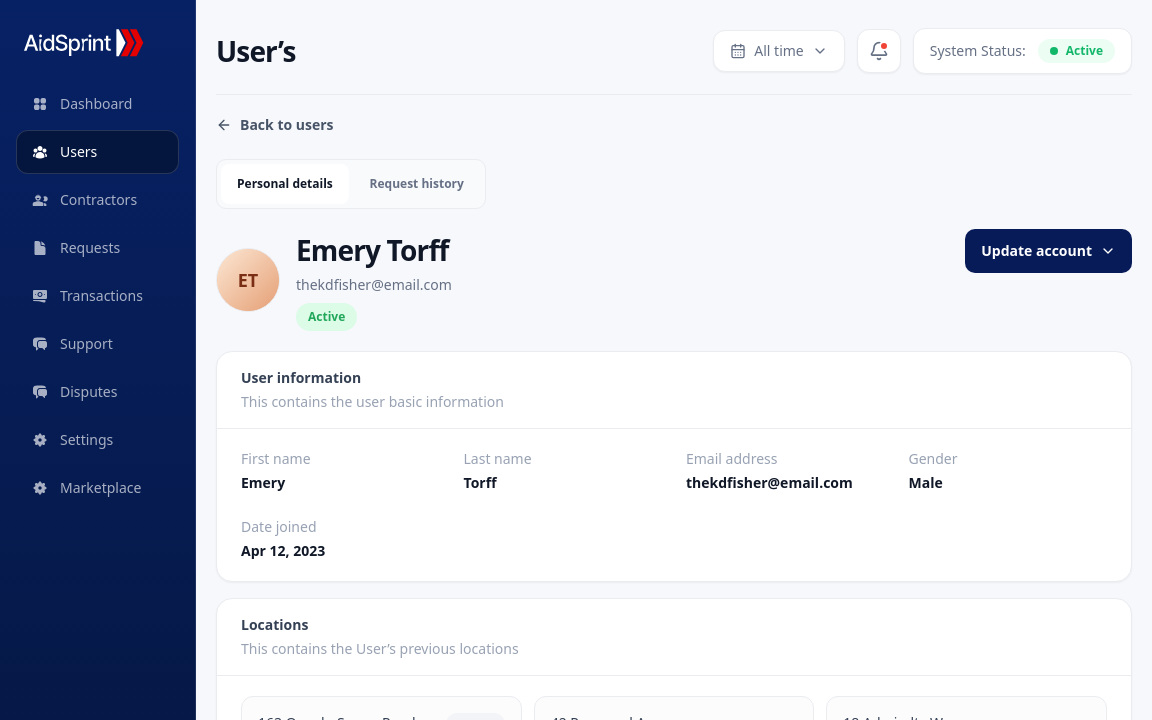
Test: UserDetailsPage › updates the request status without a reload
Click the tab "Request history".
click(417, 184)  # box x1=353 y1=164 x2=481 y2=204
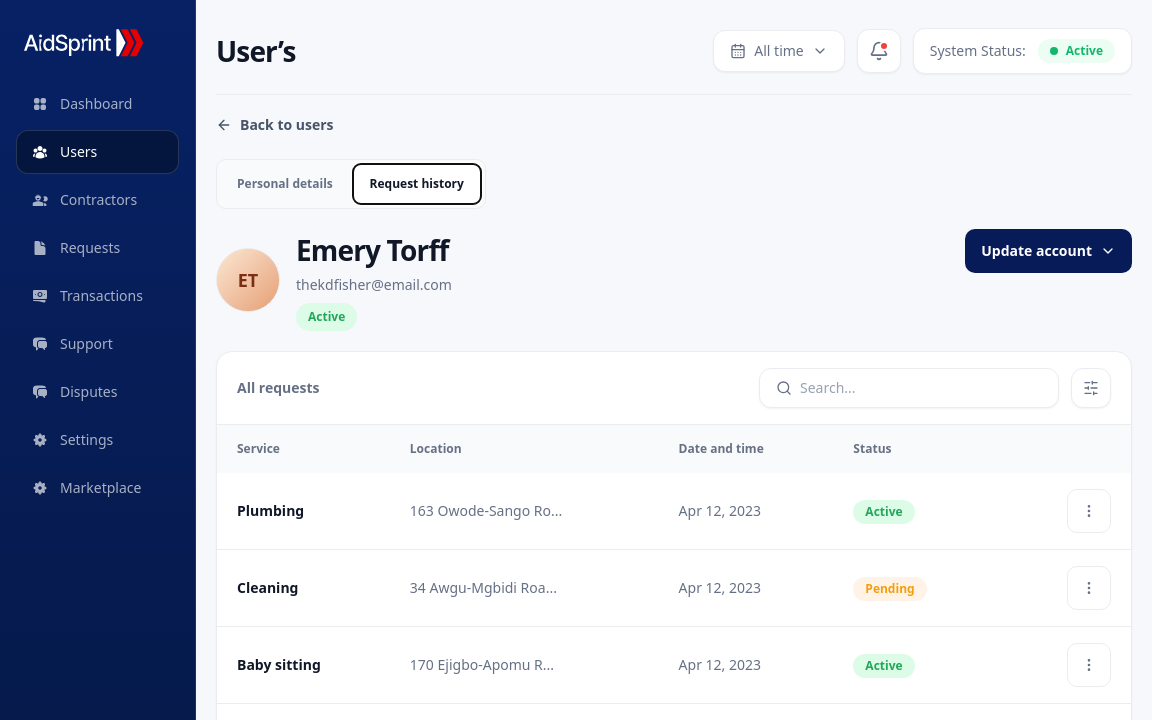
Click the button named "Open request details for Plumbing".
click(1089, 511)  # box x1=1067 y1=489 x2=1111 y2=533
(page scrolled)
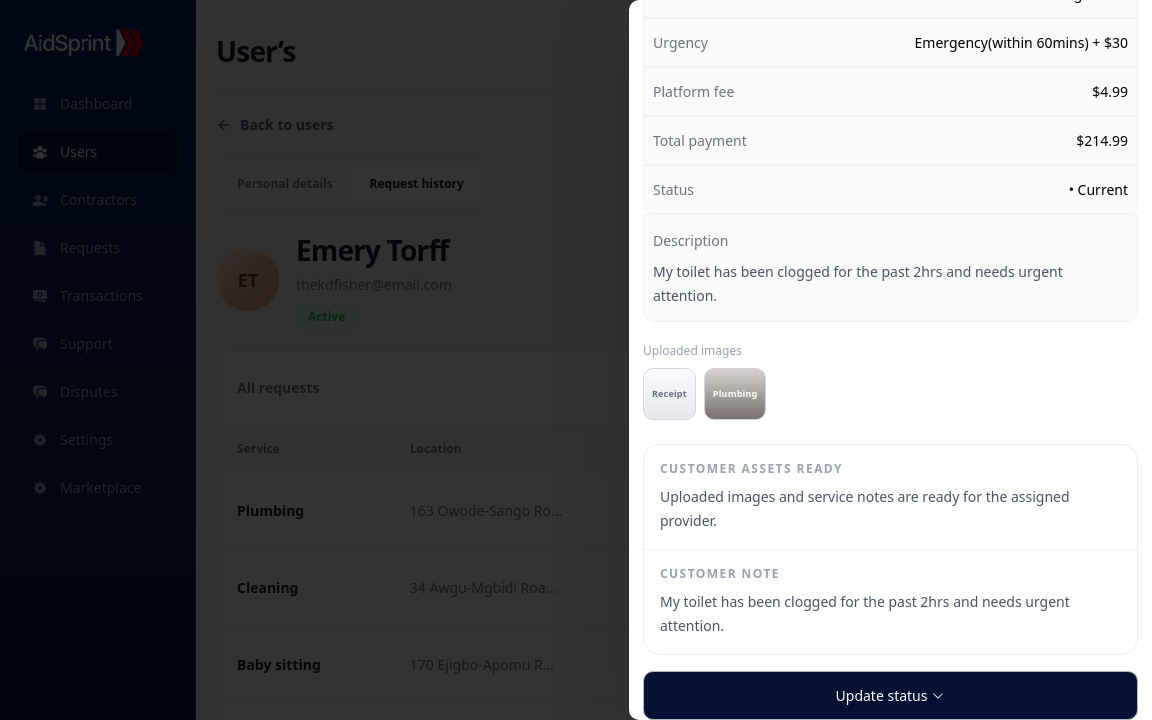
Click the button with aria-label "Update request status".
click(890, 696)  # box x1=643 y1=671 x2=1138 y2=719
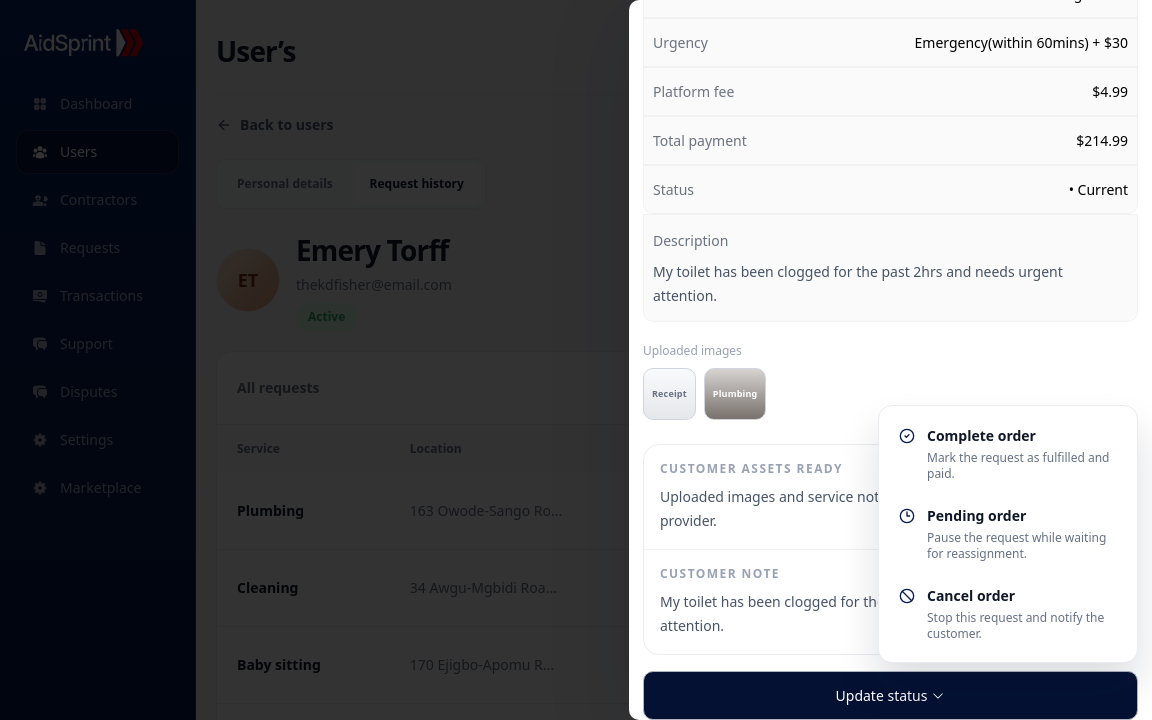
Click the menu item "Complete order Mark the request as fulfilled and paid.".
click(1008, 454)  # box x1=887 y1=414 x2=1129 y2=494
(page scrolled)
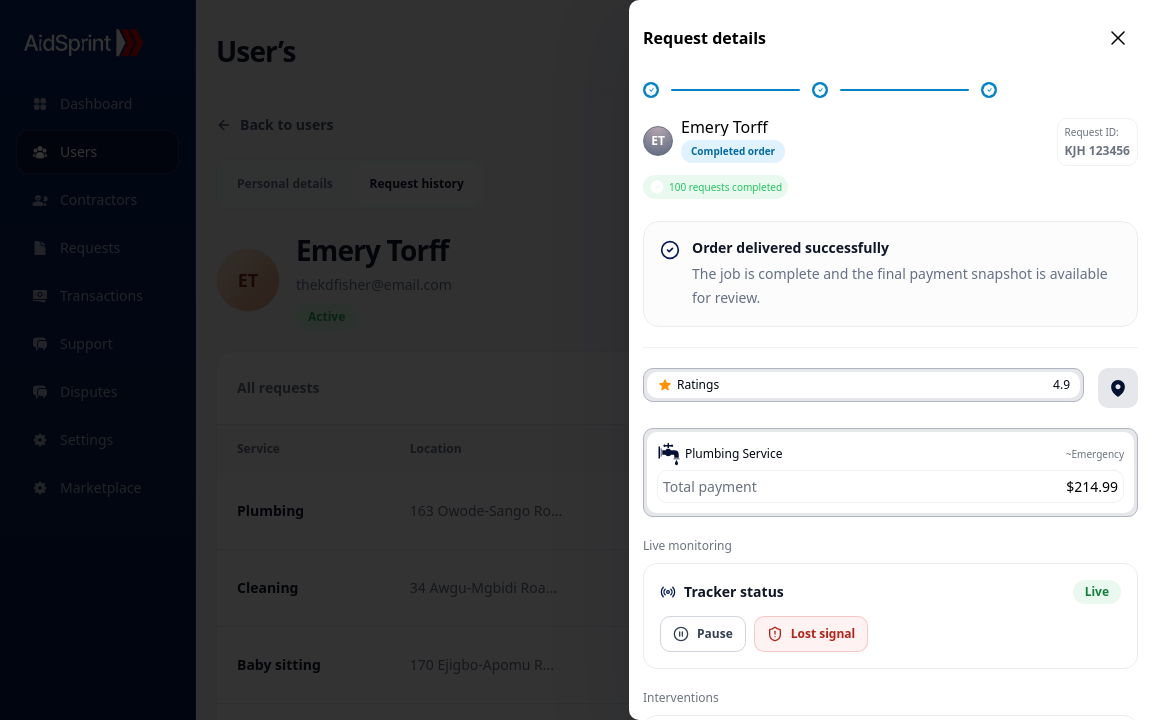
expect the text "Completed order" is shown: met, box x1=681 y1=140 x2=785 y2=163
